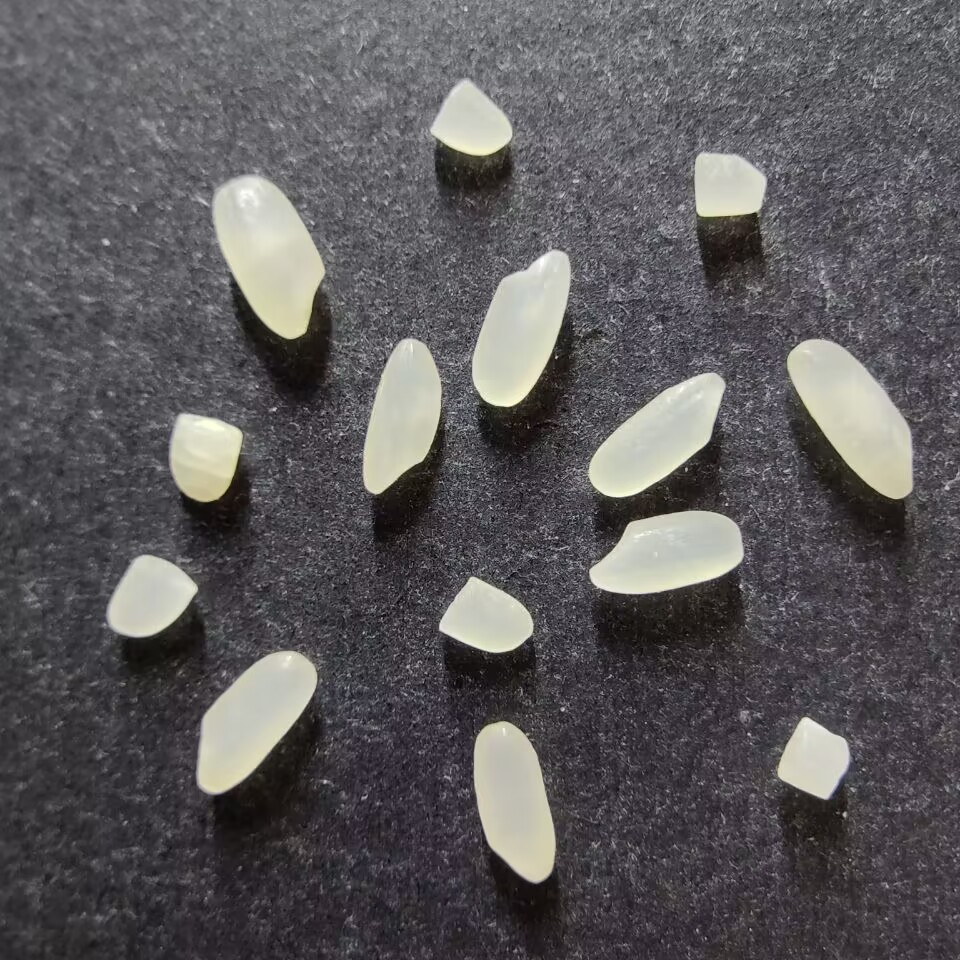broken: (106, 554, 198, 637), (438, 576, 534, 653), (169, 412, 243, 503), (429, 79, 512, 156), (776, 716, 849, 800), (693, 152, 767, 218)
rice: (785, 338, 915, 499), (212, 175, 324, 340), (195, 650, 317, 794), (587, 372, 725, 498), (470, 249, 571, 408), (472, 720, 555, 885), (588, 509, 744, 594), (361, 337, 441, 494)
